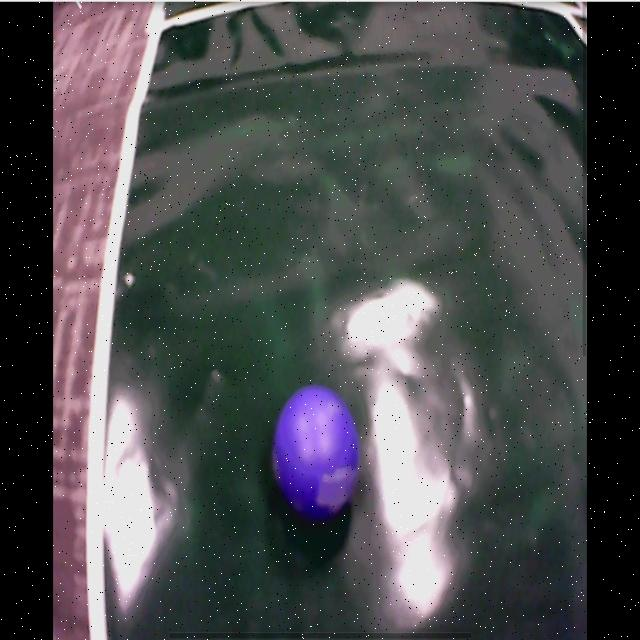ball: (274, 384, 363, 515)
